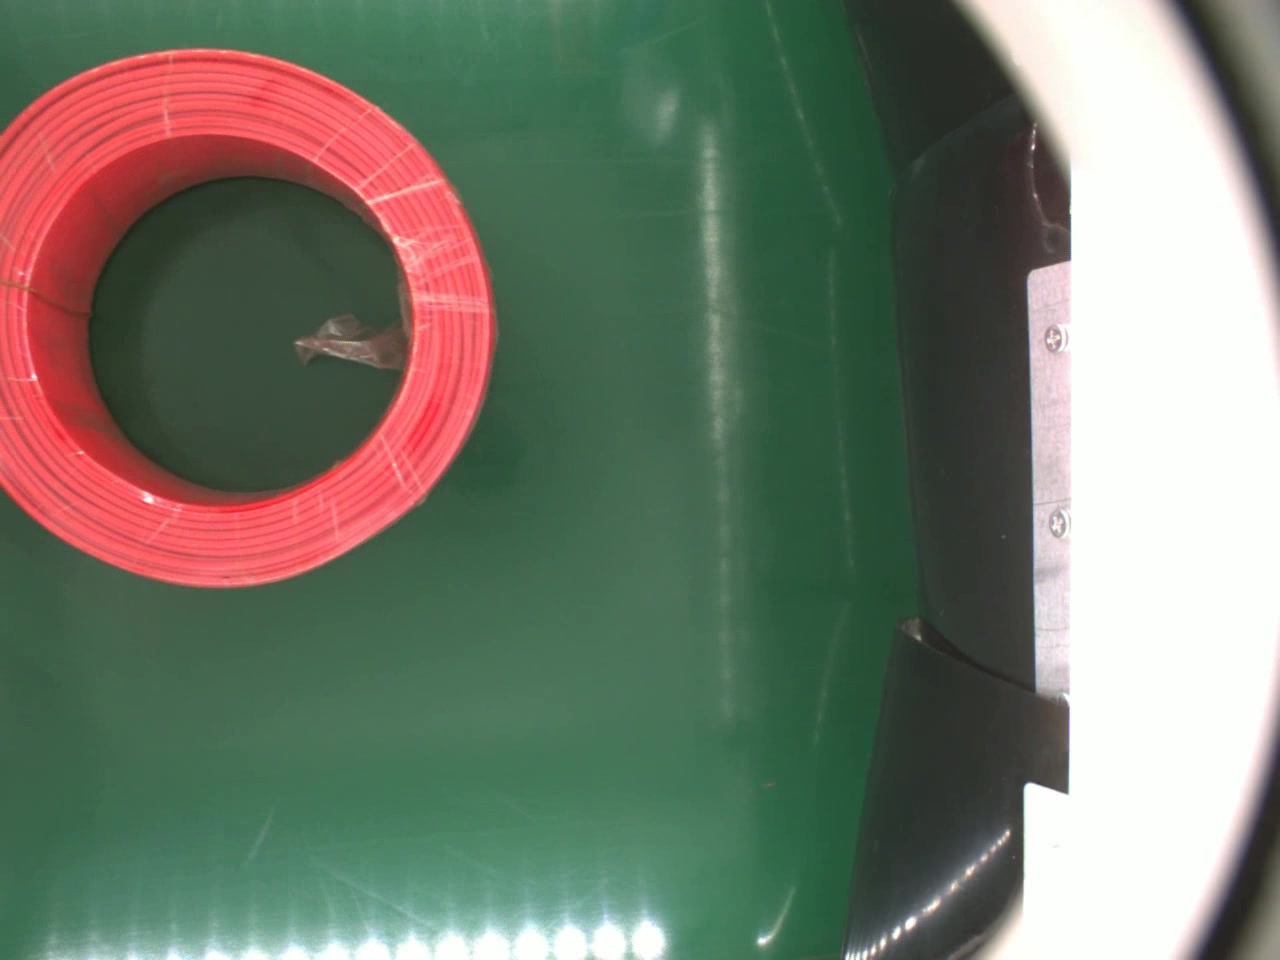red: (0, 45, 497, 590)
